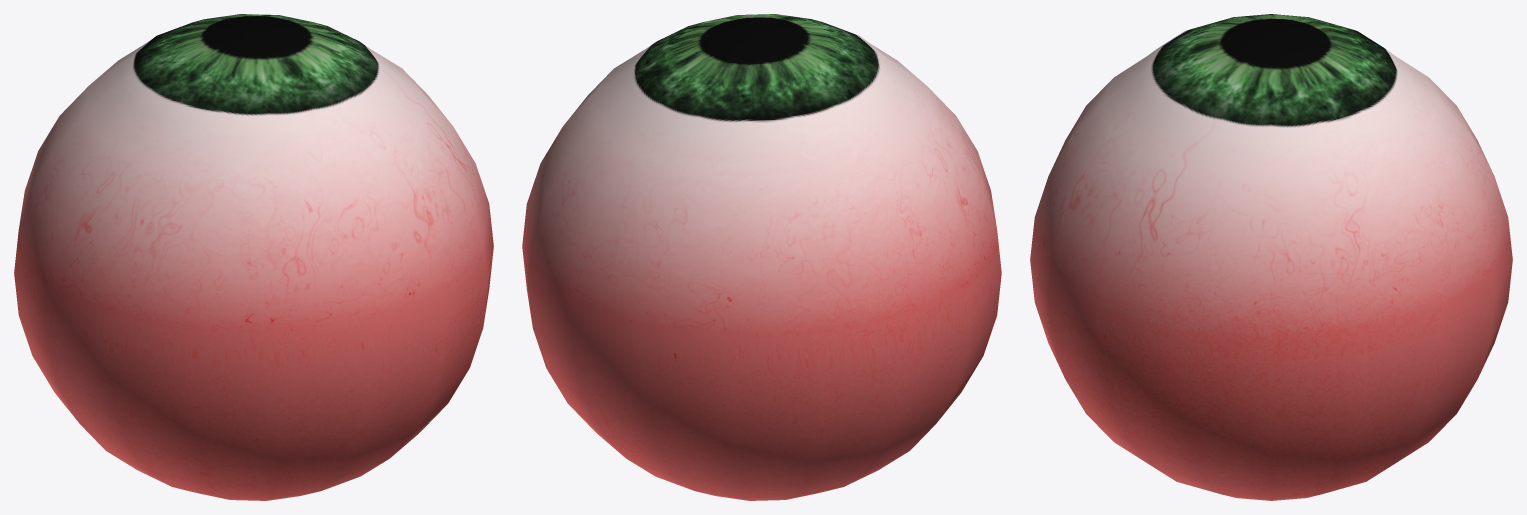
File: Eye.fbx
3 renders of one model, left to right at view 1: azimuth 30°, elevation 25°; view 2: azimuth 150°, elevation 25°; view 3: azimuth 270°, elevation 25°, orthographic.
Parts seen in each view (by area): view 1: obolochka_Sphere.004; view 2: obolochka_Sphere.004; view 3: obolochka_Sphere.004.
Boxes of the visible parts, x1=… form: obolochka_Sphere.004: x1=14, y1=14, x2=493, y2=500; obolochka_Sphere.004: x1=522, y1=14, x2=1001, y2=500; obolochka_Sphere.004: x1=1030, y1=14, x2=1512, y2=500.
Size of the model in its own units: 1094 by 1108 by 1094.
